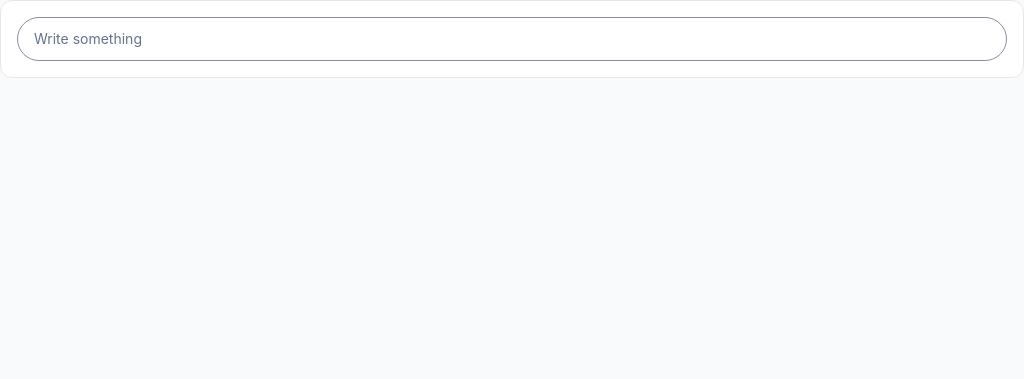
PostComposer › goes back to posting now when the schedule is removed
This screenshot has width=1024, height=379.
Press Enter in the button "Write something", box [17,17,1007,61]
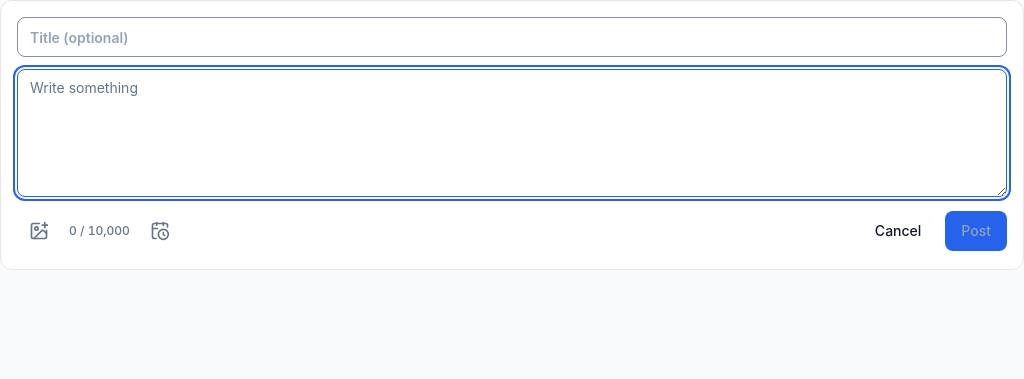
In the text box labelled "Write something": x=512, y=133 [17,69,1007,197], type "Hi"
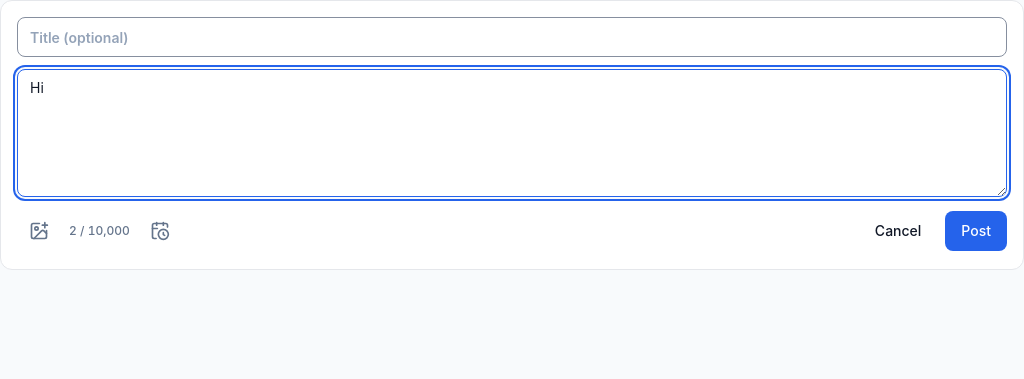
Click the button named "Schedule for later": x=160, y=231 [138,209,182,253]
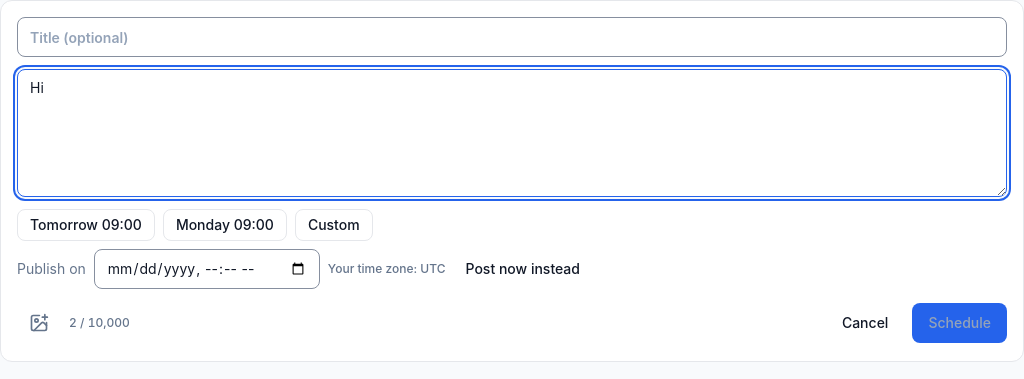
Click the button "Post now instead": x=523, y=269 [454,253,592,285]
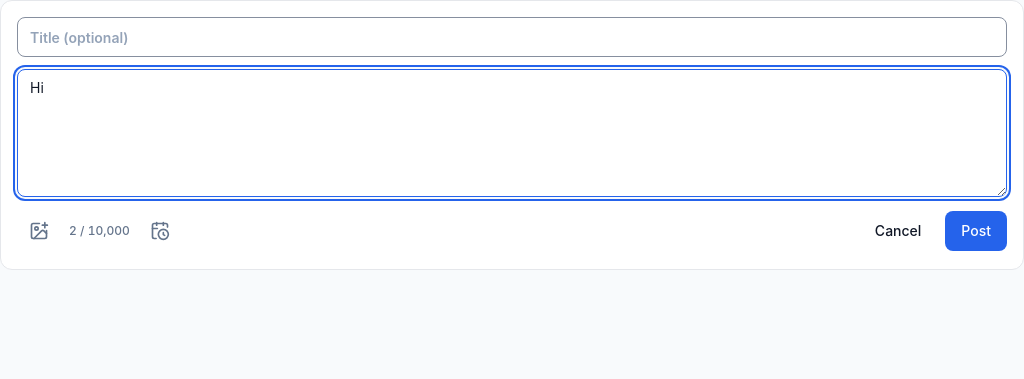
expect the button "Post" is enabled: met, box [945,211,1007,251]
